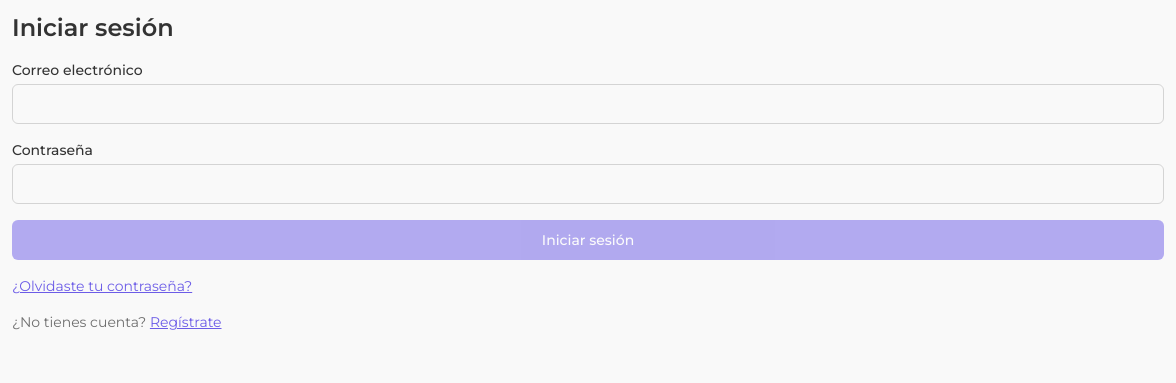
Scenario: LoginForm › shows the mapped Spanish message for invalid credentials
This screenshot has width=1176, height=383.
Step 1. Type "ana@example.com" into the field labelled "Correo electrónico" → point(588, 104), box [12, 84, 1164, 124]
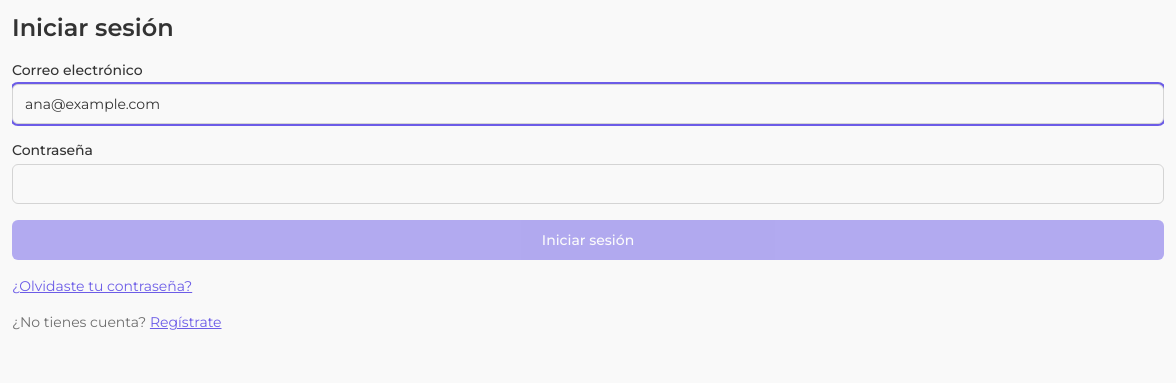
Step 2. Type "correct horse battery staple" into the password field labelled "Contraseña" → point(588, 184), box [12, 164, 1164, 204]
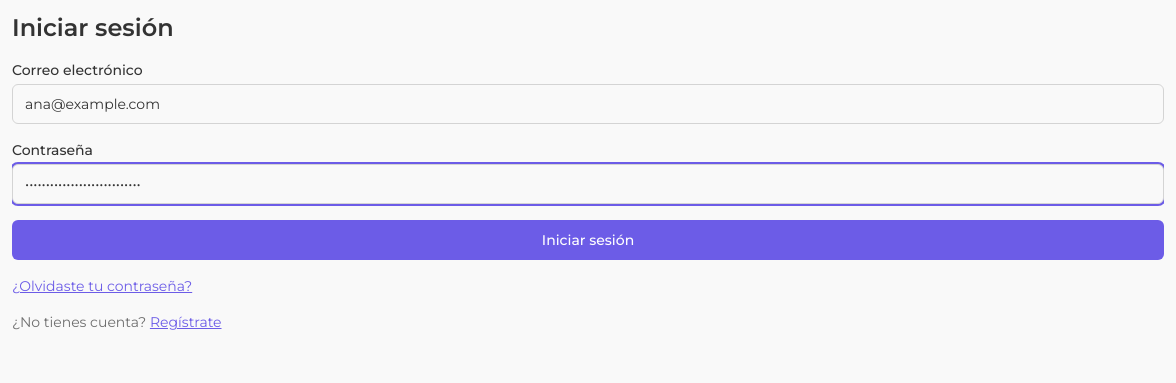
Step 3. Click the button "Iniciar sesión" → point(588, 240), box [12, 220, 1164, 260]
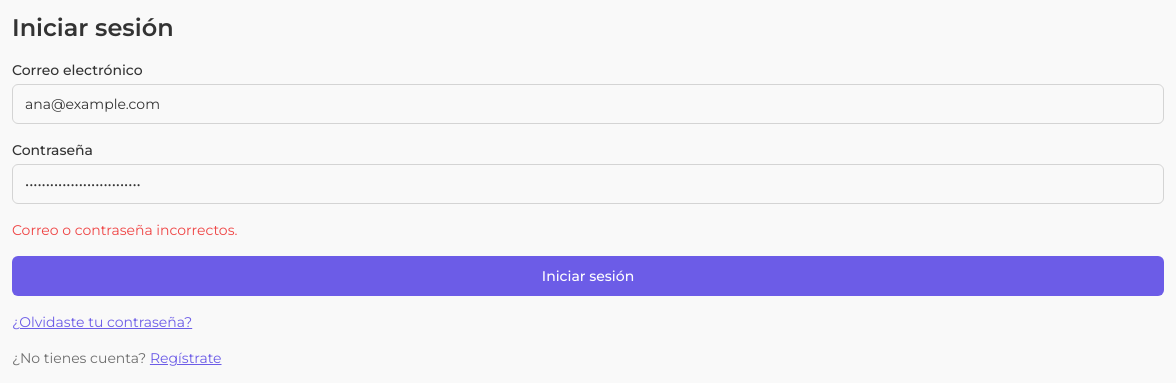
Now the message reads "Correo o contraseña incorrectos.", box [12, 221, 238, 239]
